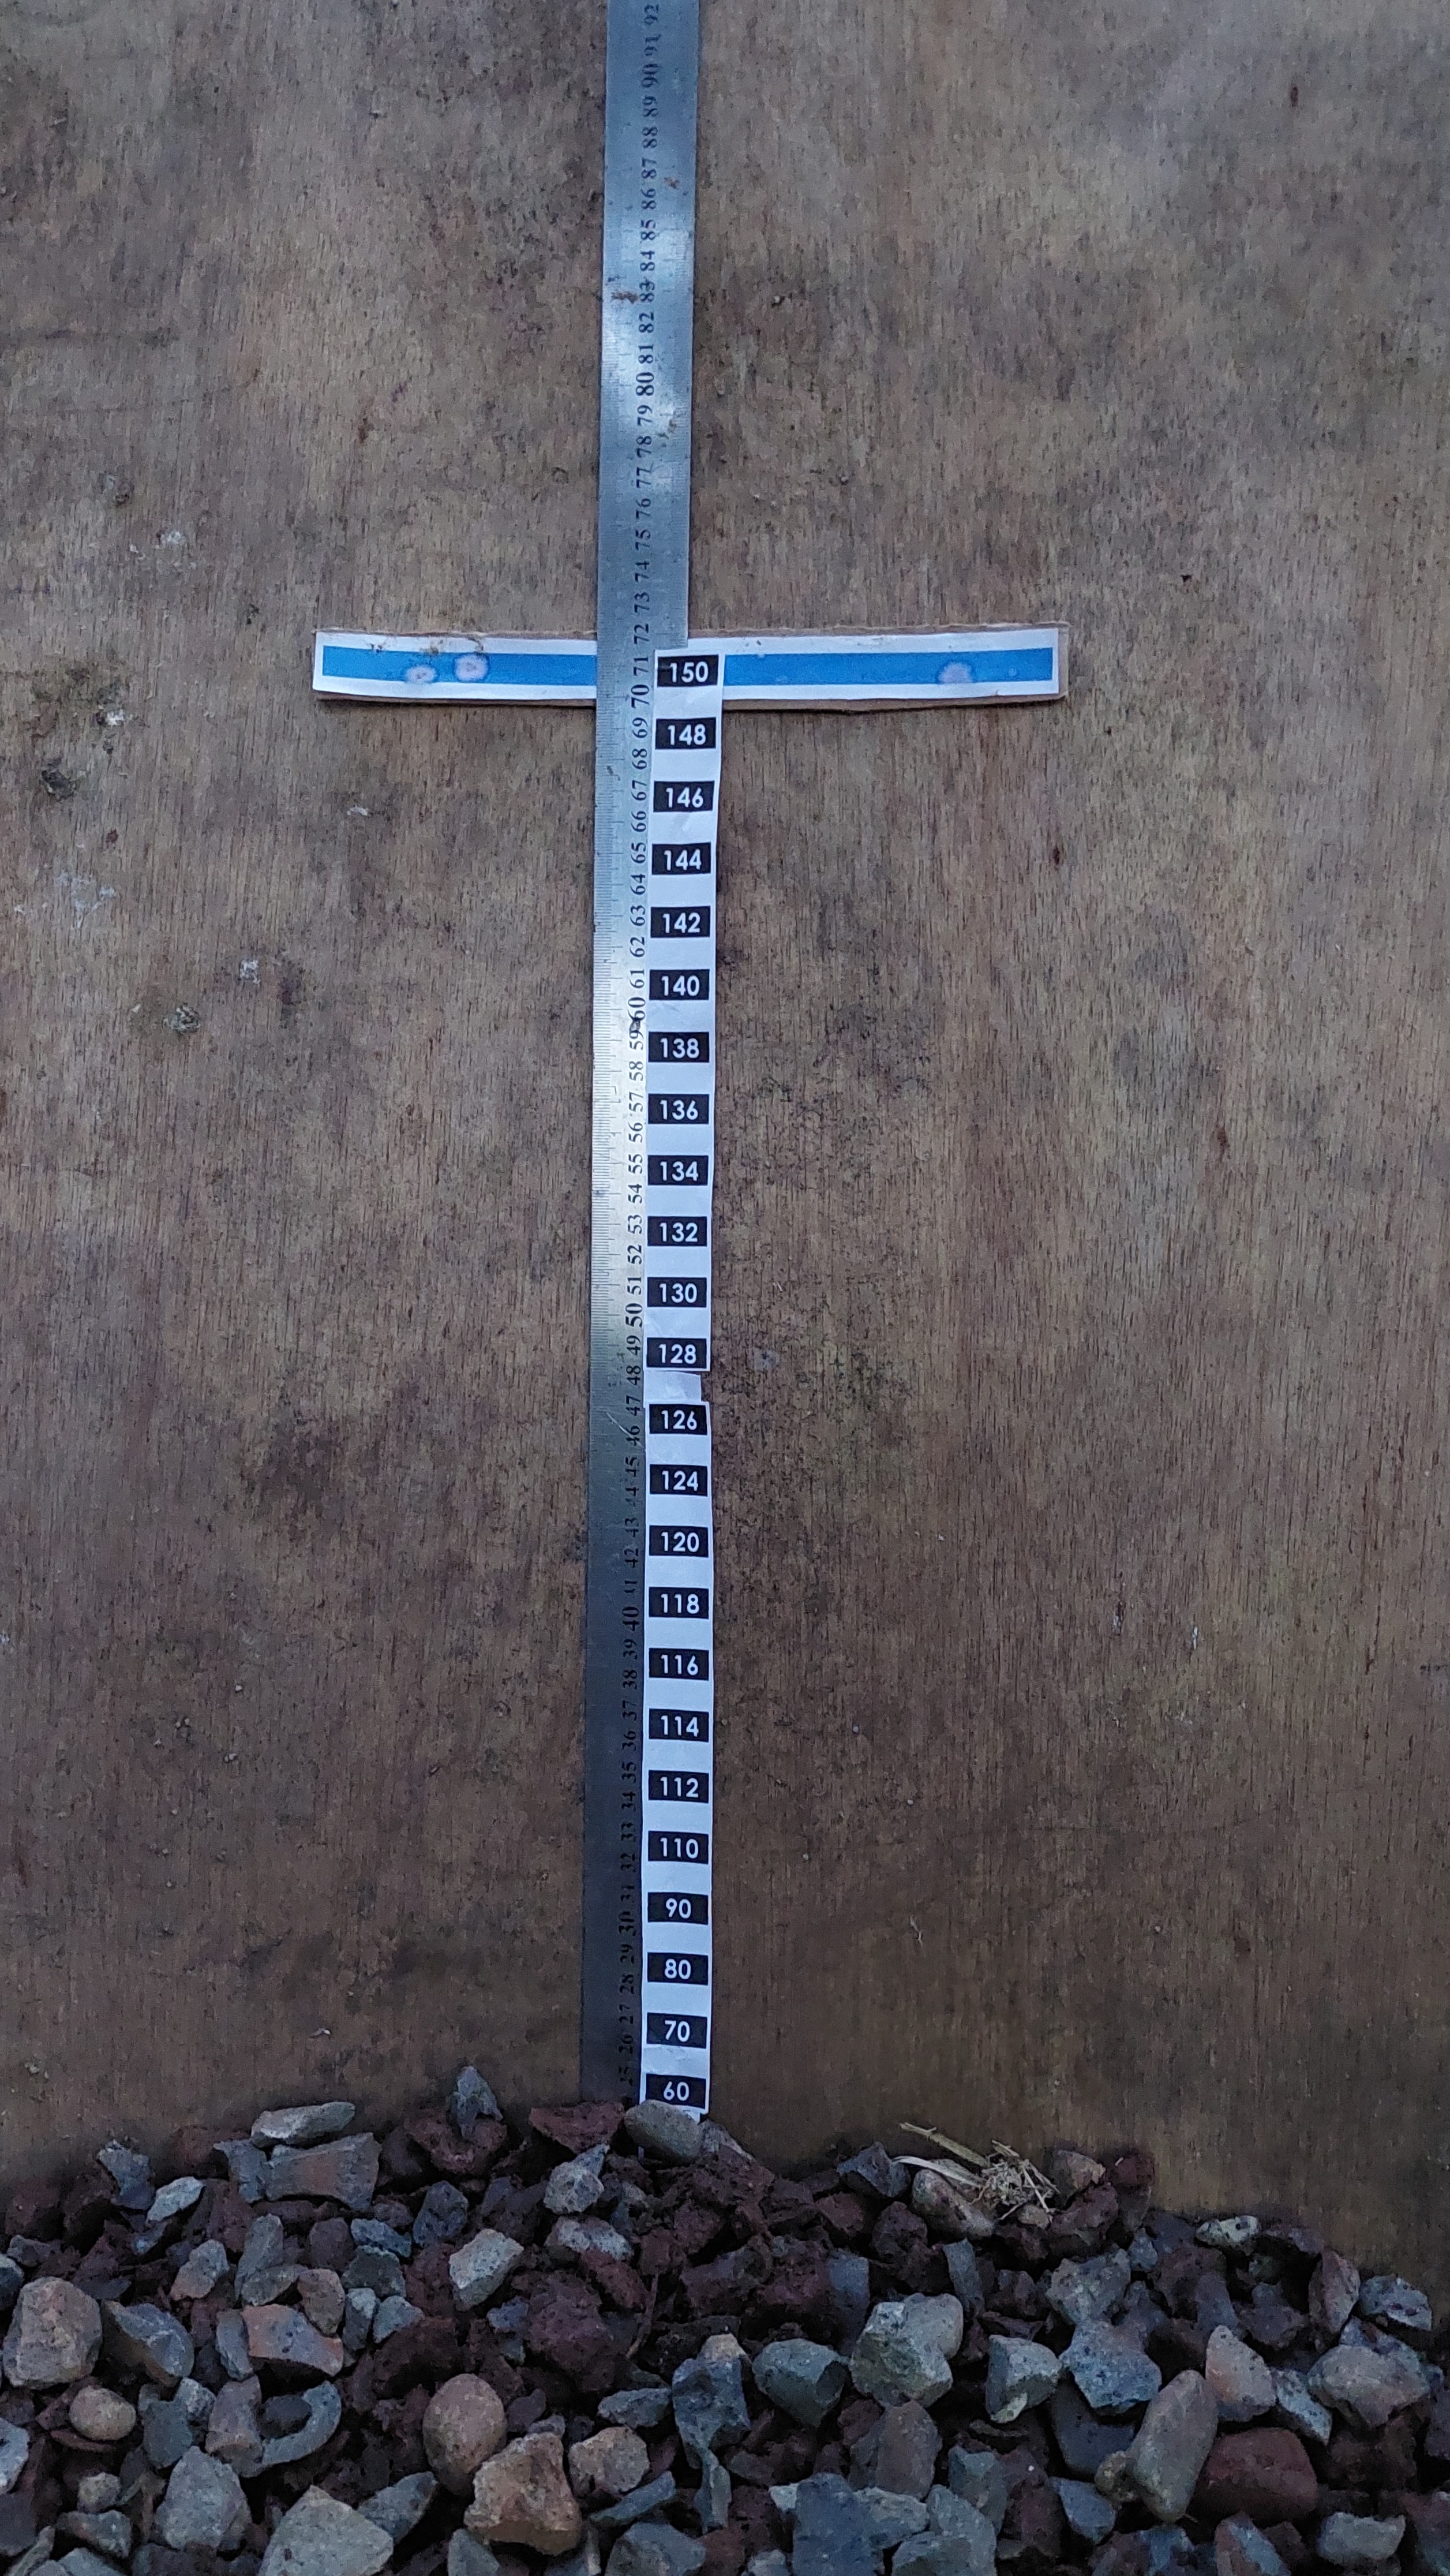kotak_2x1: (652, 1645, 713, 1681), (649, 1030, 709, 1065), (649, 966, 709, 1001), (647, 1890, 707, 1925), (658, 655, 718, 688), (644, 1828, 704, 1861), (649, 1771, 709, 1805), (649, 1711, 709, 1744), (647, 1582, 707, 1615), (647, 2015, 707, 2049), (651, 1525, 711, 1559), (647, 1214, 707, 1247), (651, 1463, 711, 1497), (649, 1403, 709, 1437), (647, 1336, 707, 1369), (645, 1276, 706, 1309), (645, 1152, 706, 1185), (647, 1092, 707, 1125), (651, 902, 711, 936), (649, 842, 709, 876), (652, 780, 713, 814), (652, 717, 713, 750), (645, 1953, 706, 1987)
